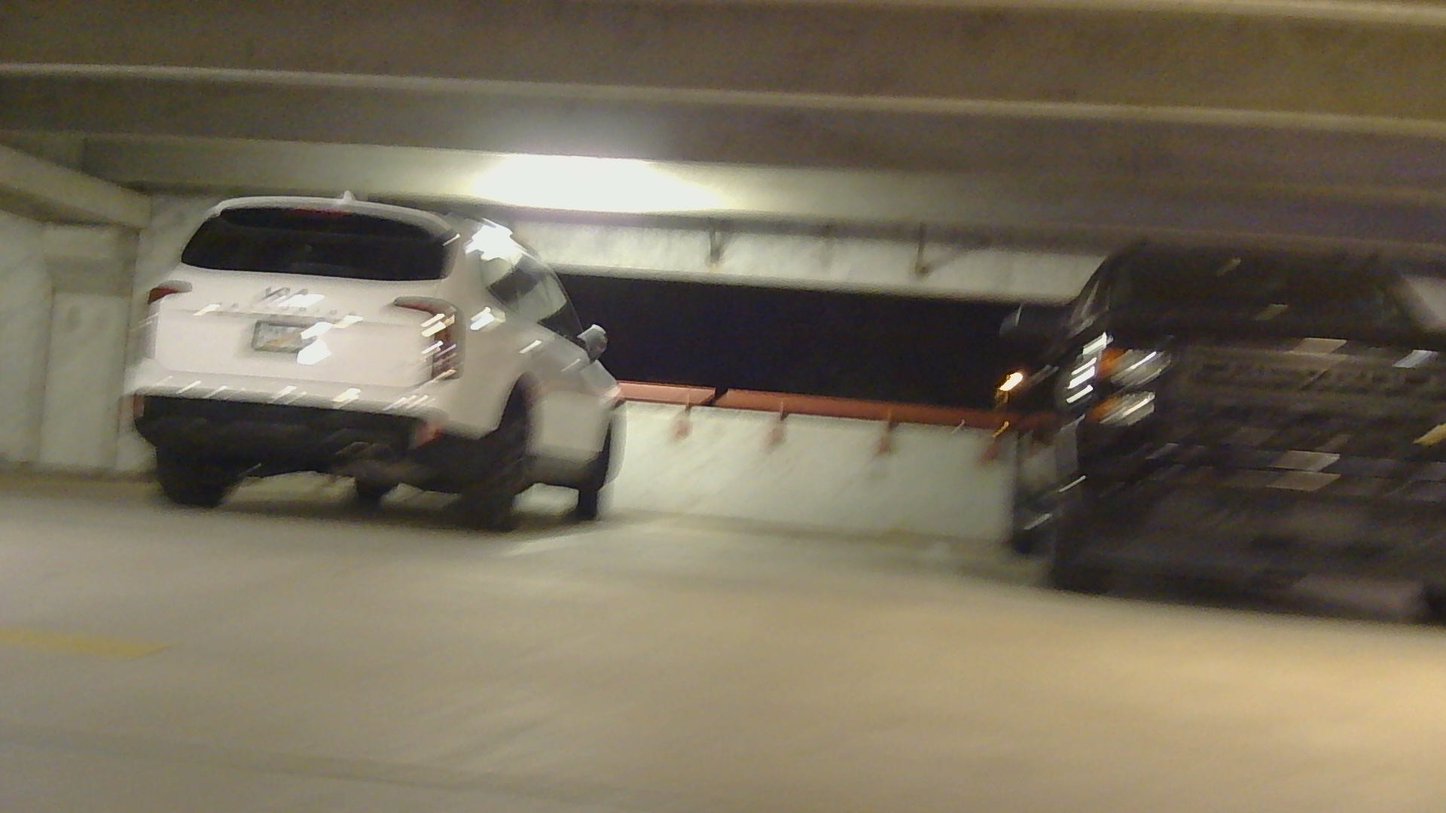empty_spot: (524, 424, 1086, 604)
occupied_spot: (119, 165, 657, 562), (1020, 230, 1446, 610)
